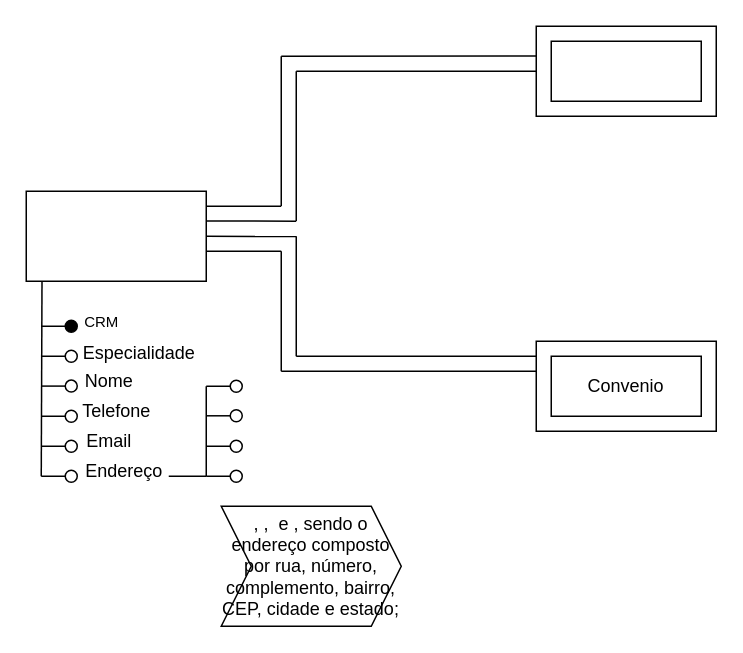
Some shapes in this 743 by 653 pixel diagram are drawn without their labels. The centre of each missing label's shape, as x and y in pixels:
"Consulta" belongs at (x=625, y=70).
"Medico" belongs at (x=115, y=235).
